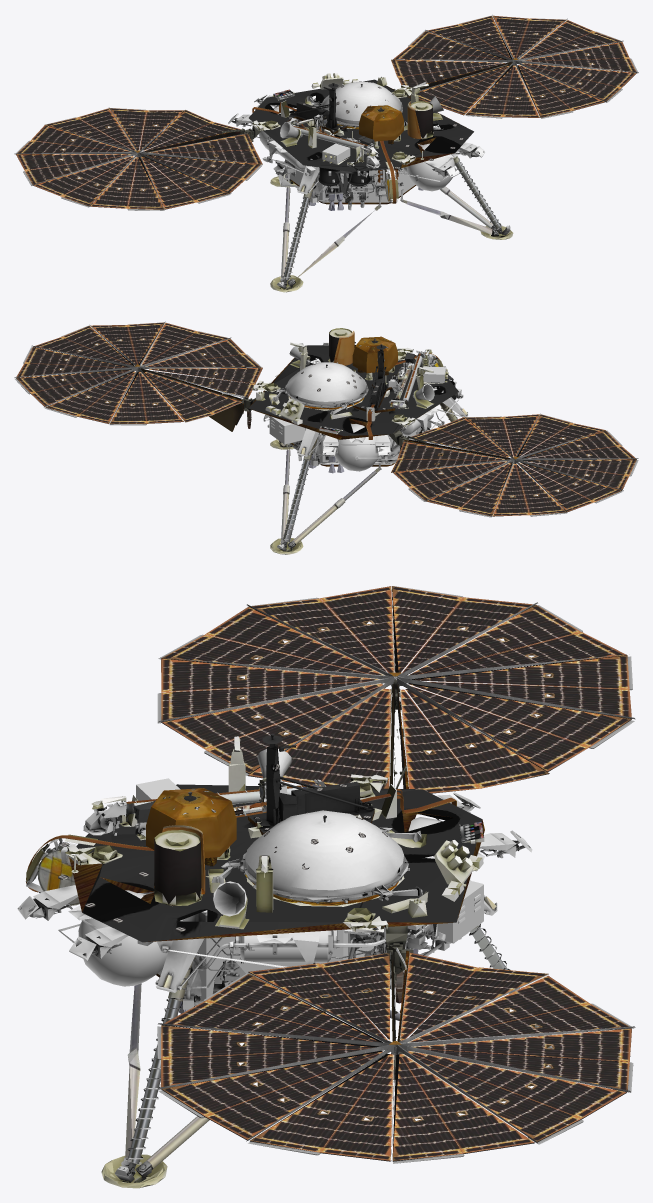
Rendered from insight_lod0.glb.
The picture shows the model from 3 angles, top to bottom: view 1: azimuth 30°, elevation 25°; view 2: azimuth 150°, elevation 25°; view 3: azimuth 270°, elevation 25°; orthographic projection. The views are drawn at different scales.
Visible parts, largest first — view 1: insight_lod0; view 2: insight_lod0; view 3: insight_lod0.
Boxes of the visible parts, x1,y1,x2,y2 form: insight_lod0: [14, 15, 638, 292]; insight_lod0: [14, 321, 638, 554]; insight_lod0: [17, 586, 635, 1188].
Bounding box in the file's own units: 6 × 1.55 × 2.71.
14 materials, 10 textured.
